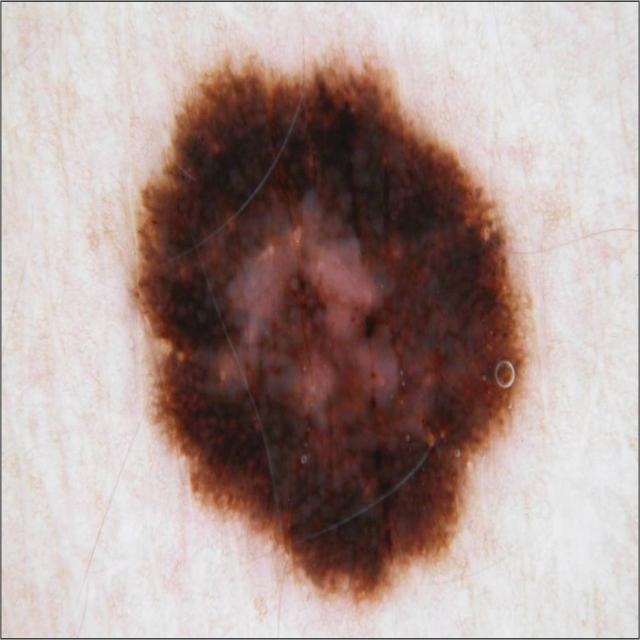Melanoma: (128, 44, 536, 608)
